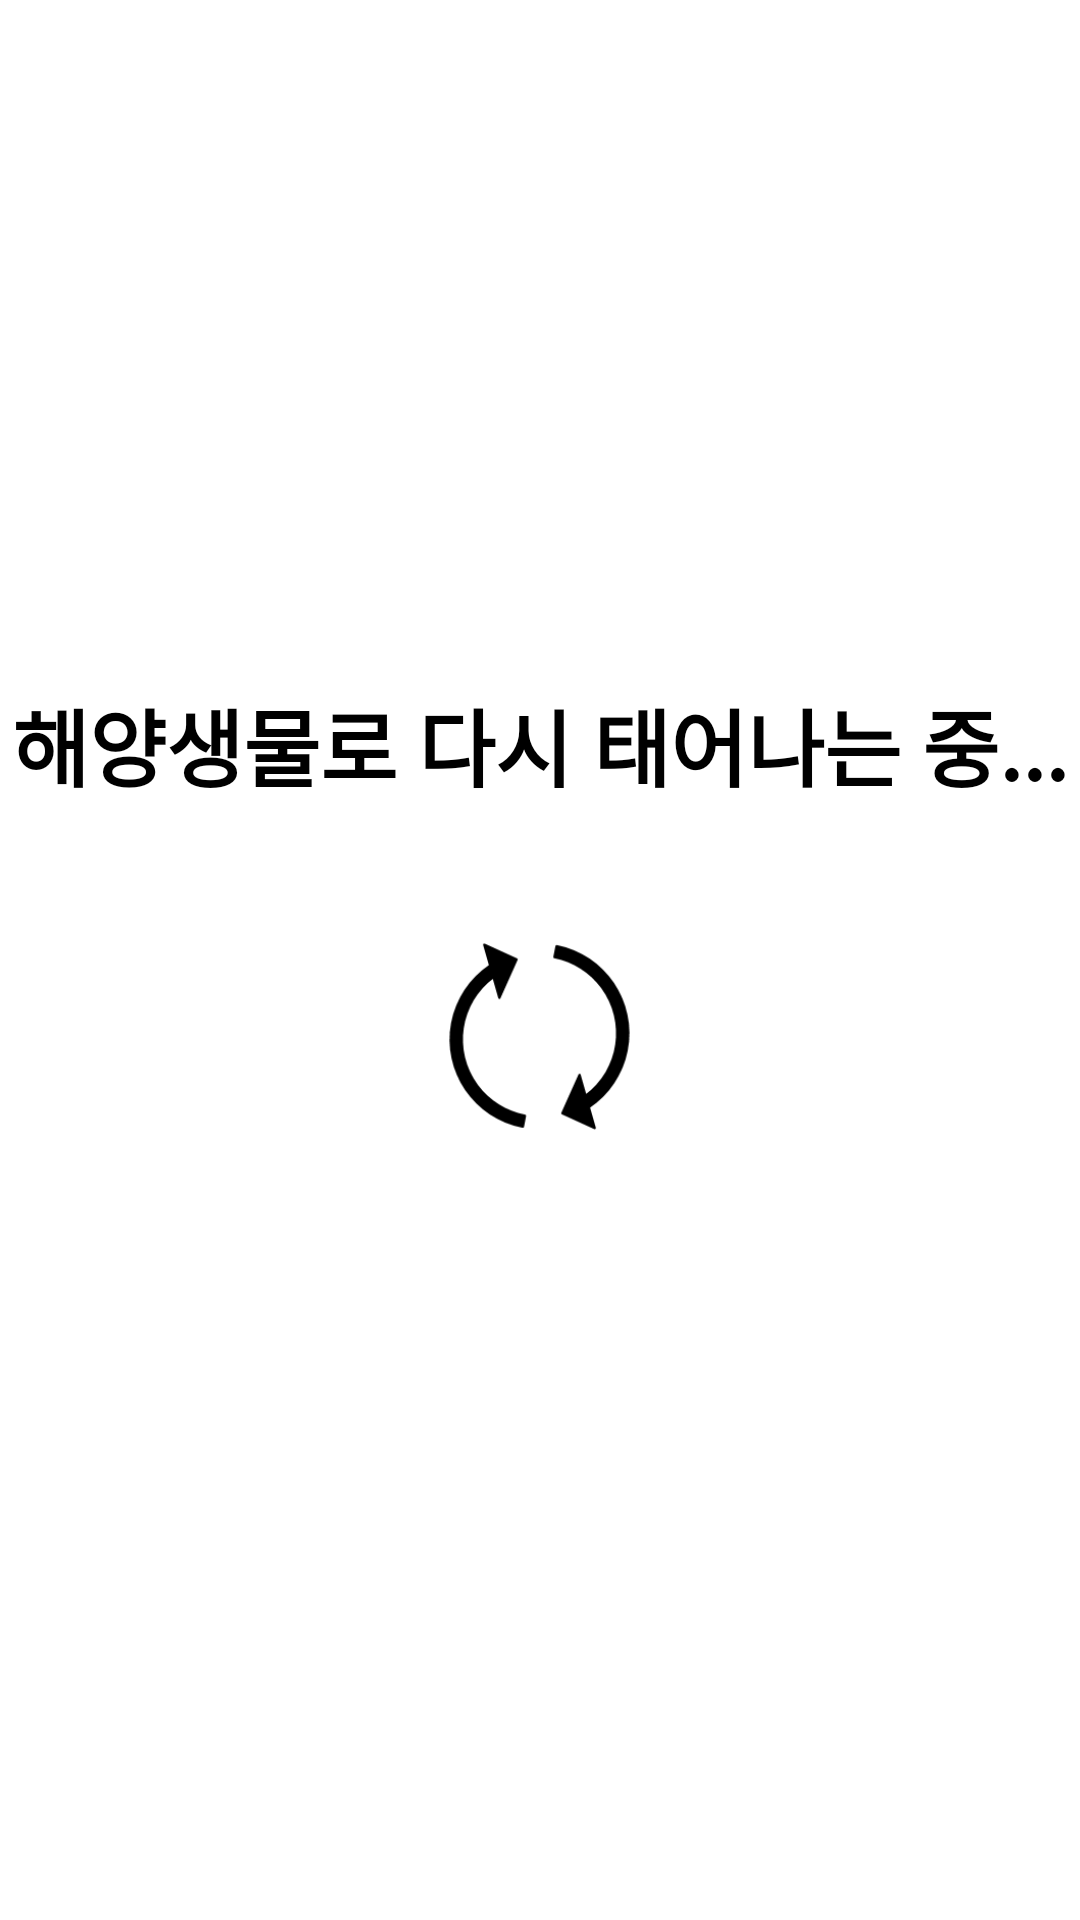

Named icons in this screenshot (1080px×1920px) and their bounding boxes, (left=x1, top=y1, right=x2, bottom=y2):
loading: (left=449, top=943, right=630, bottom=1130)
